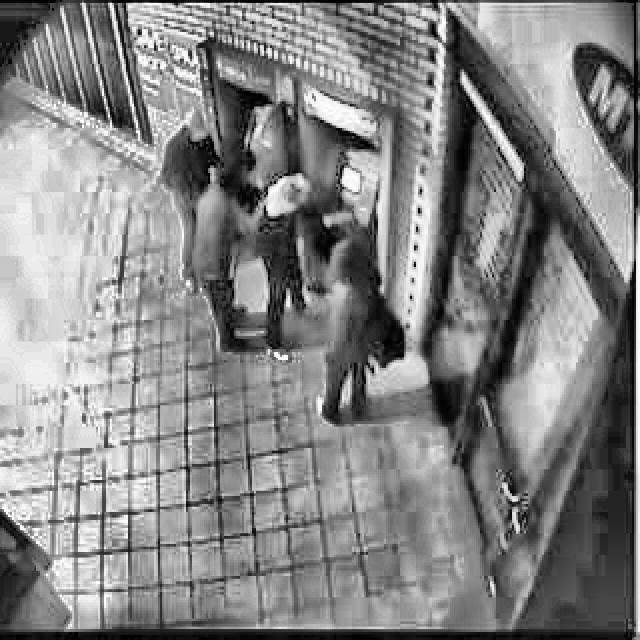burglary: (158, 83, 412, 430)
